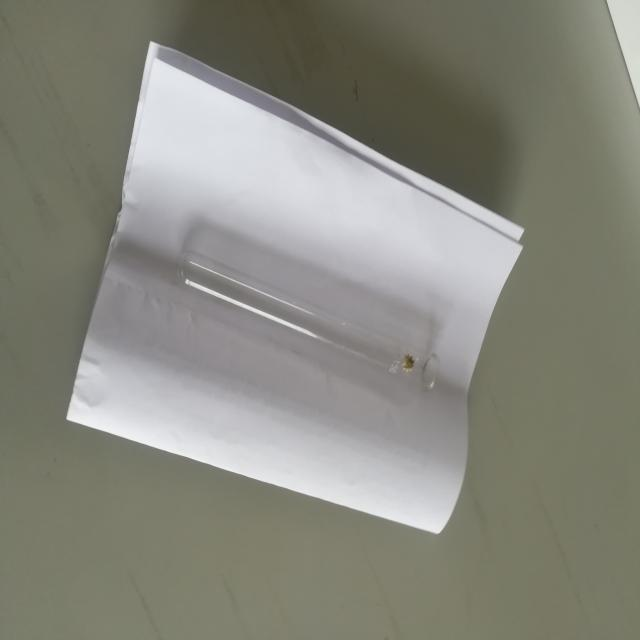Test_Tube: (165, 209, 458, 437)
